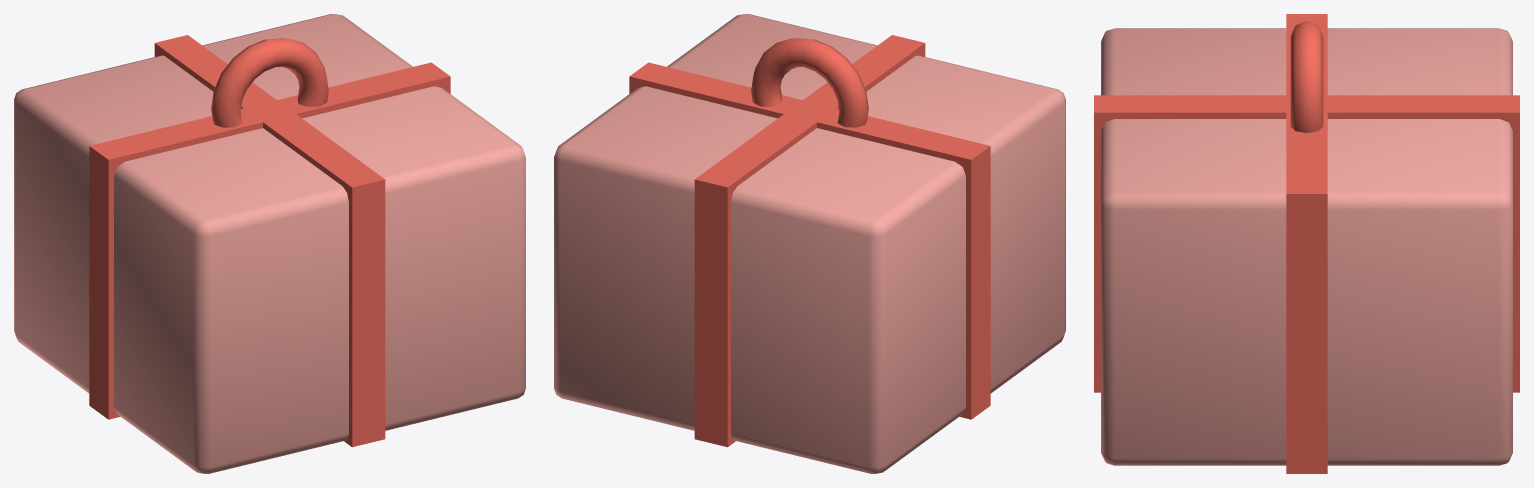
Rendered from cake_box.gltf.
The picture shows the model from 3 angles, left to right: view 1: azimuth 30°, elevation 25°; view 2: azimuth 150°, elevation 25°; view 3: azimuth 270°, elevation 25°; orthographic projection. The views are drawn at different scales.
Parts seen in each view (by area): view 1: cake_box_mesh; view 2: cake_box_mesh; view 3: cake_box_mesh.
Part boxes in pixels (x1=…): cake_box_mesh: x1=14, y1=14, x2=525, y2=473; cake_box_mesh: x1=554, y1=14, x2=1065, y2=473; cake_box_mesh: x1=1094, y1=14, x2=1519, y2=473.
Bounding box in the file's own units: 0.31 × 0.287 × 0.31.
